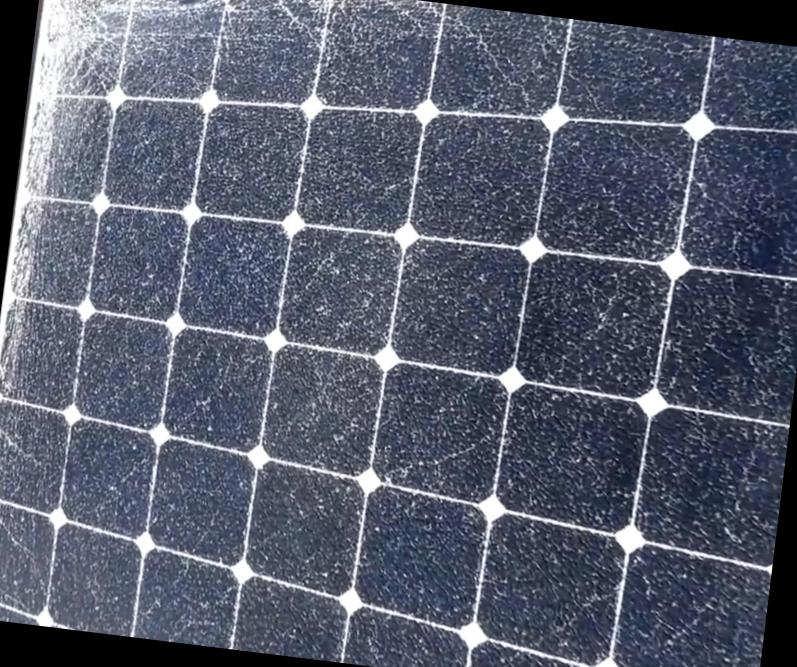Crack: (0, 0, 84, 379), (259, 0, 433, 74), (31, 0, 134, 101)
